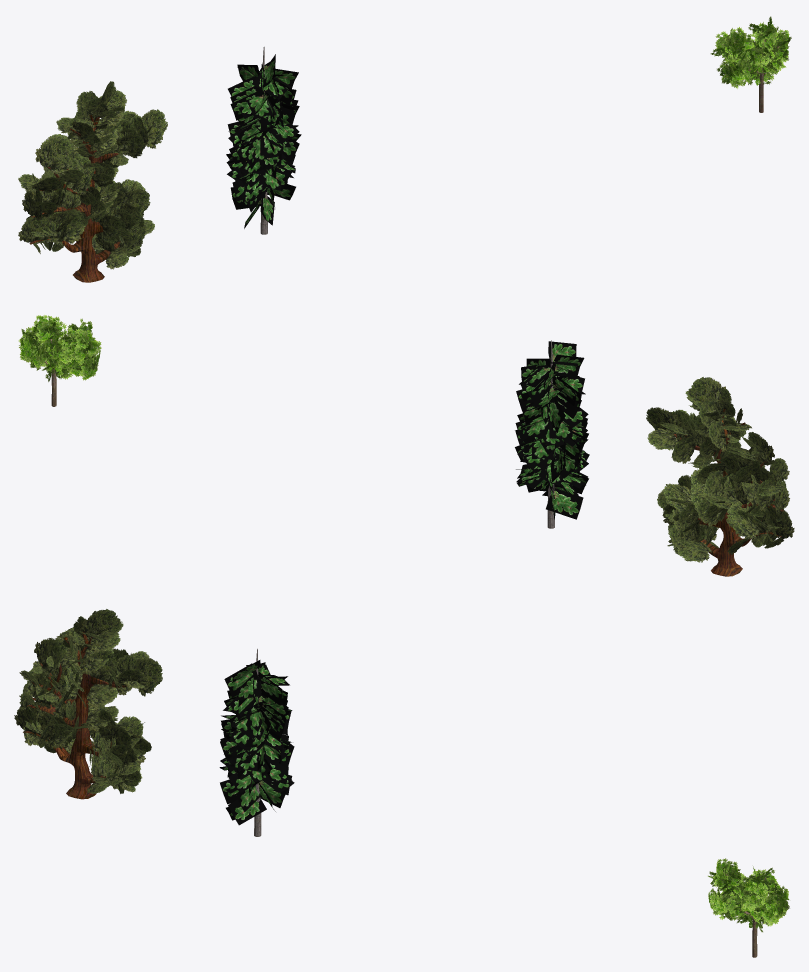
The model's file is DistrictTrees.fbx.
3 views of the same model, one above another, from view 1: azimuth 30°, elevation 25°; view 2: azimuth 150°, elevation 25°; view 3: azimuth 330°, elevation 25° (orthographic).
Parts seen in each view (by area): view 1: District_Birch, District_Pine, District_Oak, District_Birch|Plane.002|Dupli|79, District_Birch|Plane.002|Dupli|108; view 2: District_Birch, District_Pine, District_Oak, District_Birch|Plane.002|Dupli|108, District_Birch|Plane.002|Dupli|53; view 3: District_Birch, District_Pine, District_Oak, District_Birch|Plane.002|Dupli|108, District_Birch|Plane.002|Dupli|101.
Part boxes in pixels (bbox=[...]): District_Birch: bbox=[18, 81, 154, 282]; District_Pine: bbox=[226, 46, 301, 234]; District_Oak: bbox=[710, 16, 791, 112]; District_Birch|Plane.002|Dupli|79: bbox=[36, 136, 74, 175]; District_Birch|Plane.002|Dupli|108: bbox=[142, 109, 167, 148]; District_Birch: bbox=[647, 377, 794, 576]; District_Pine: bbox=[515, 340, 589, 528]; District_Oak: bbox=[18, 315, 101, 406]; District_Birch|Plane.002|Dupli|108: bbox=[646, 407, 681, 433]; District_Birch|Plane.002|Dupli|53: bbox=[663, 483, 691, 515]; District_Birch: bbox=[14, 609, 150, 799]; District_Pine: bbox=[219, 648, 294, 836]; District_Oak: bbox=[708, 858, 789, 957]; District_Birch|Plane.002|Dupli|108: bbox=[137, 658, 162, 696]; District_Birch|Plane.002|Dupli|101: bbox=[80, 610, 119, 634].
Bounding box in the file's own units: 31126 × 7449 × 2734.
